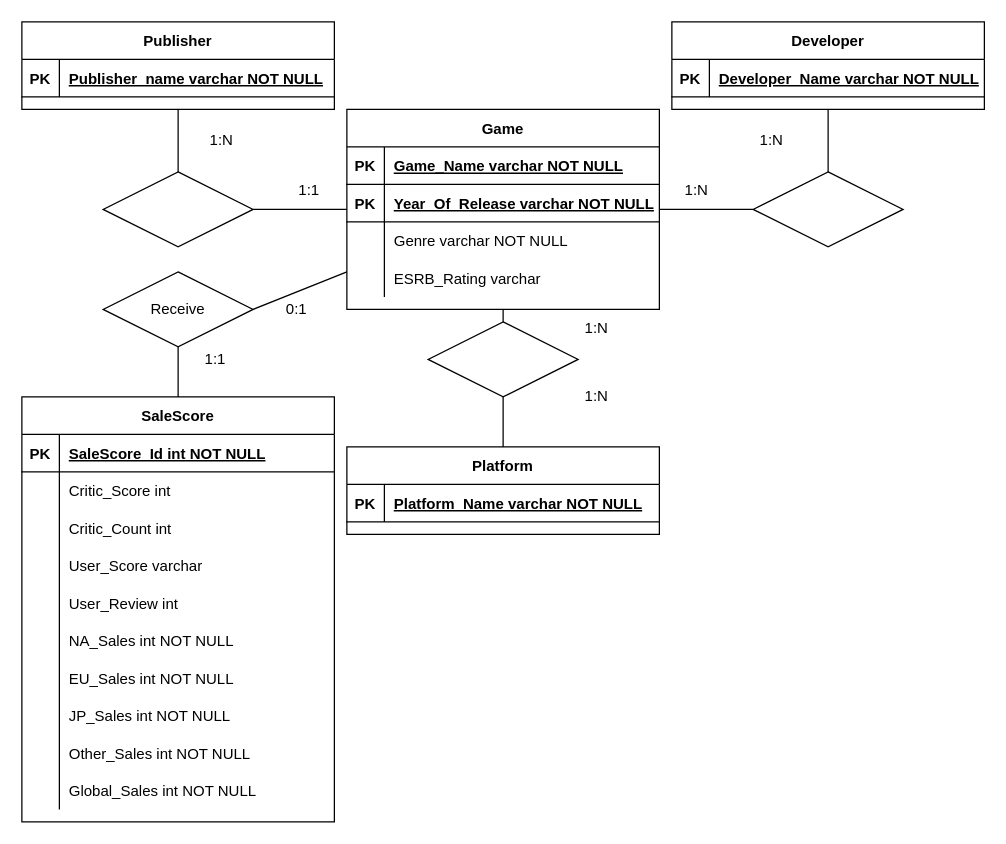
This 1006x844 diagram has some shape labels left out. The box of each missing label's shape, as (x1, y1, x2, y2) in pixels:
Create: (752, 171, 903, 247)
Played On: (427, 321, 578, 397)
Publish: (102, 171, 253, 247)
